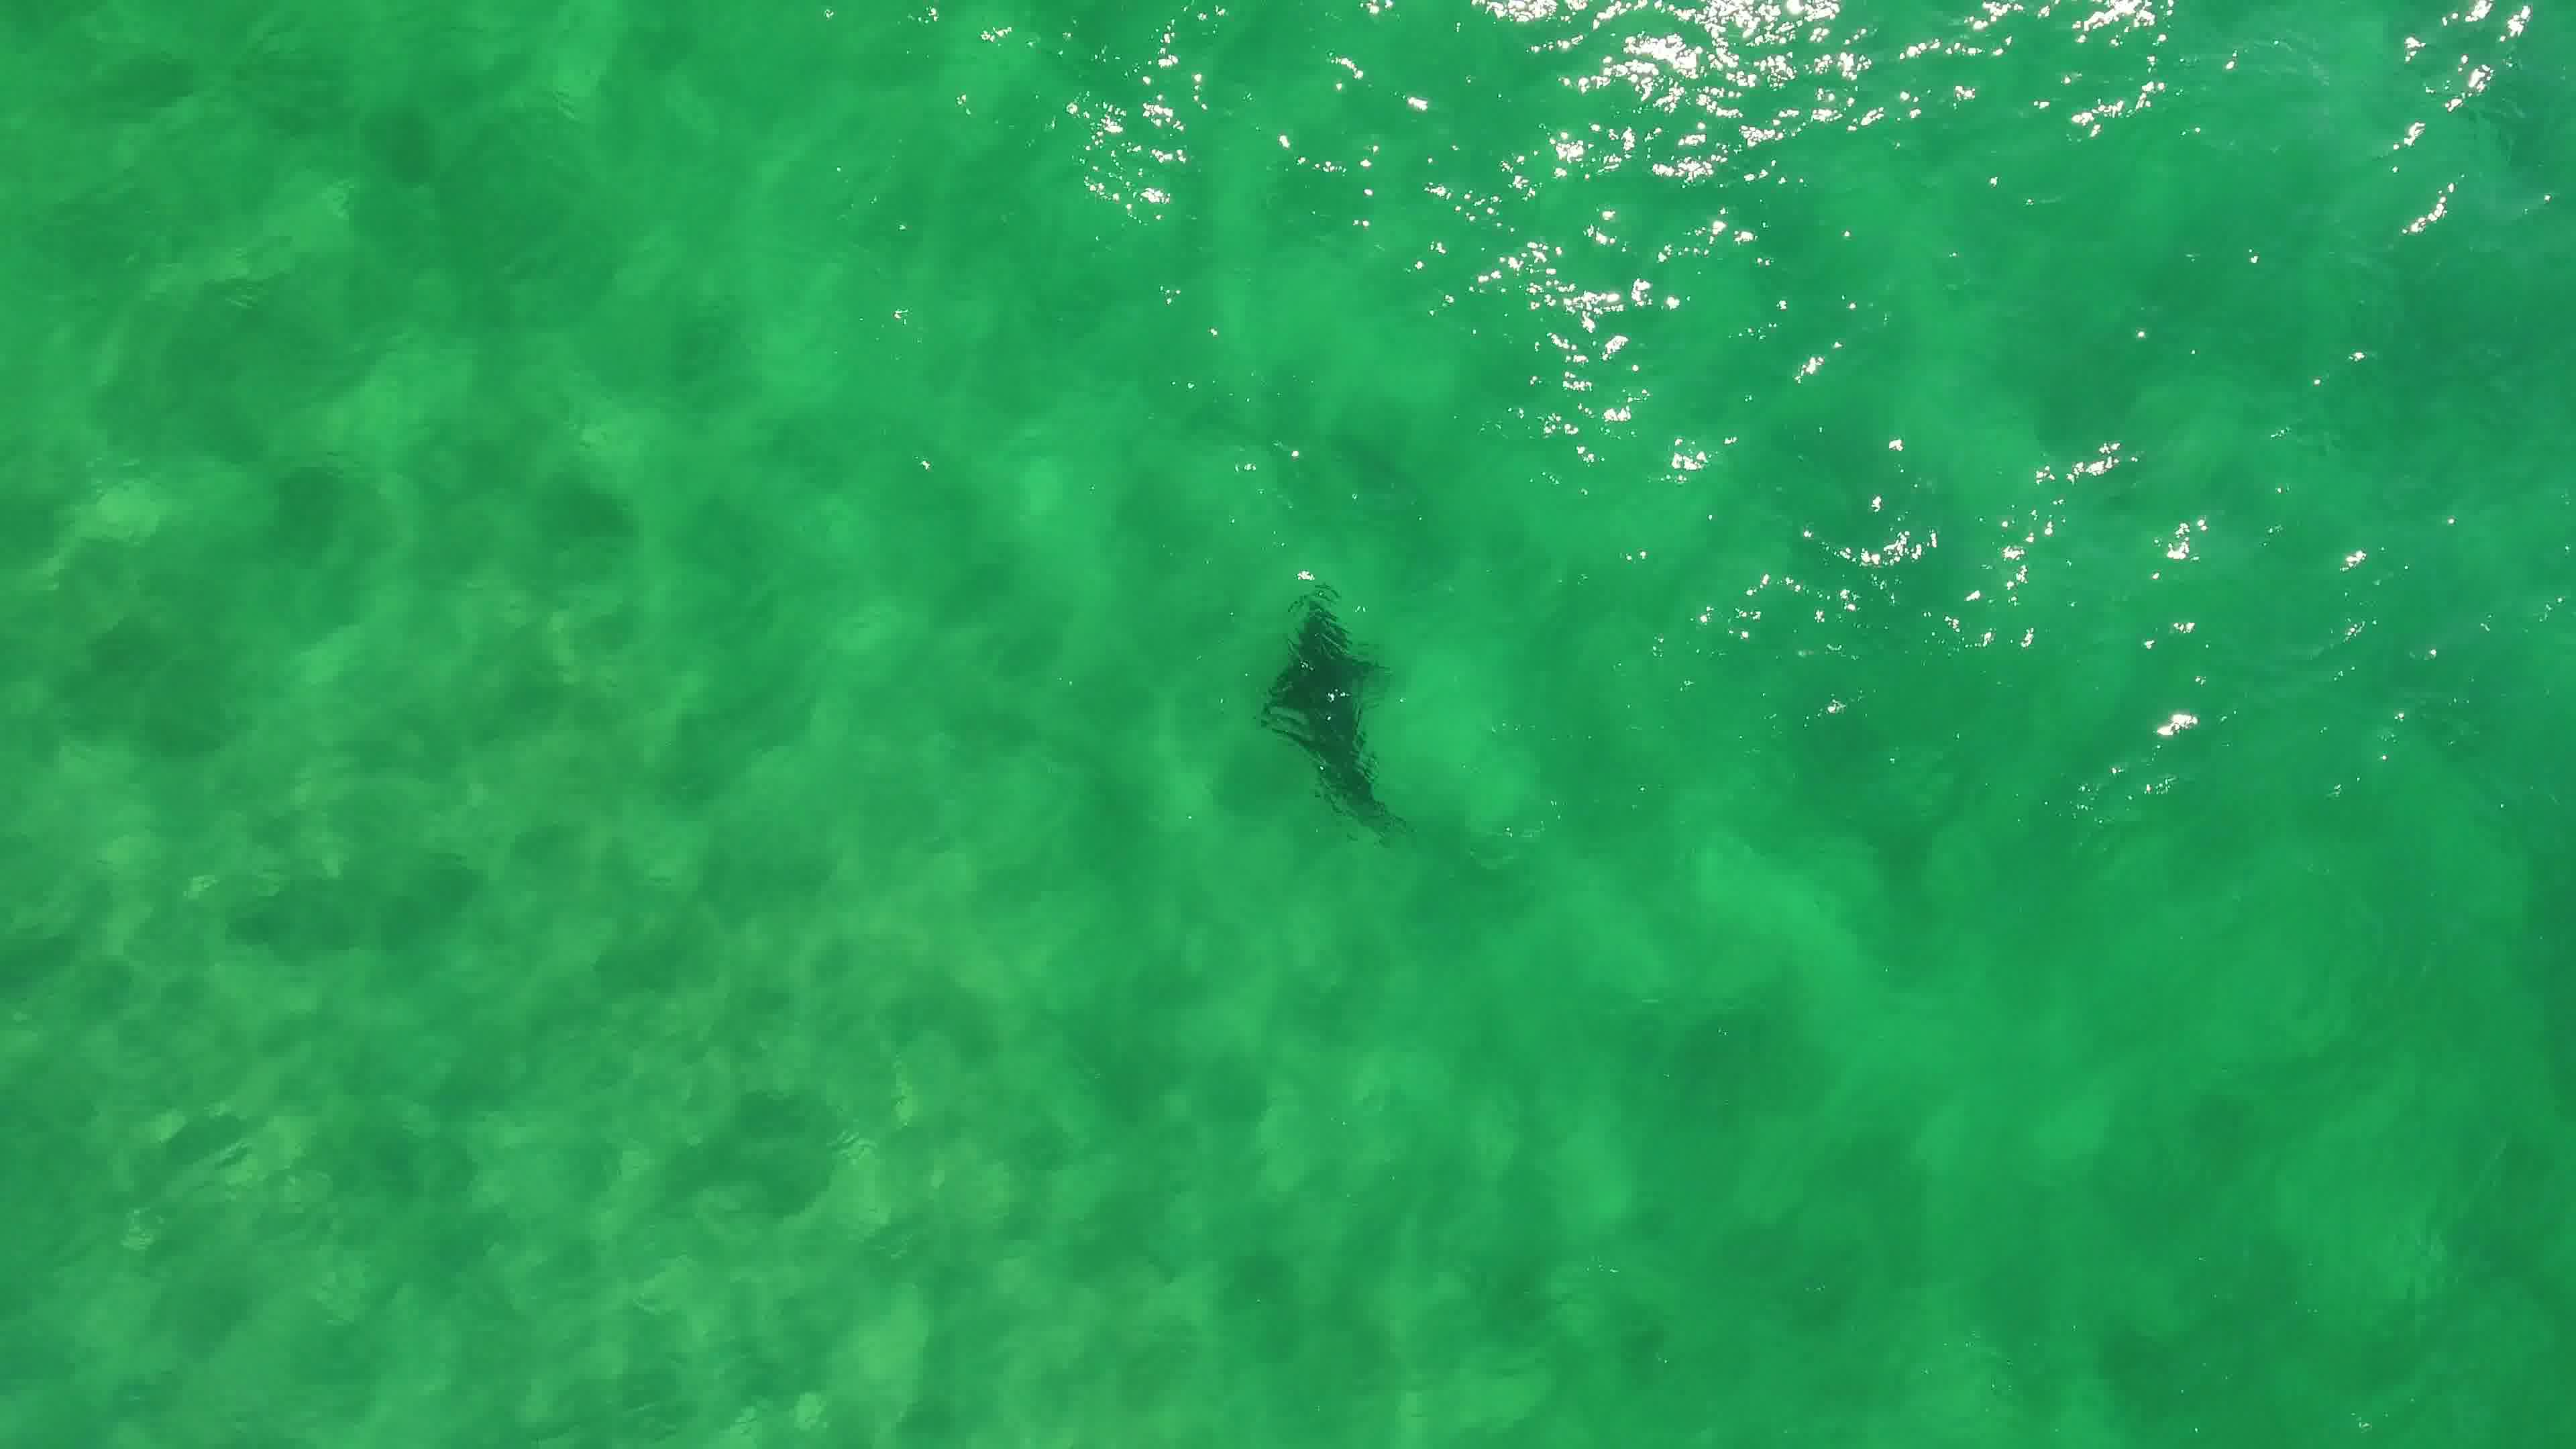shark: (1242, 582, 1415, 839)
